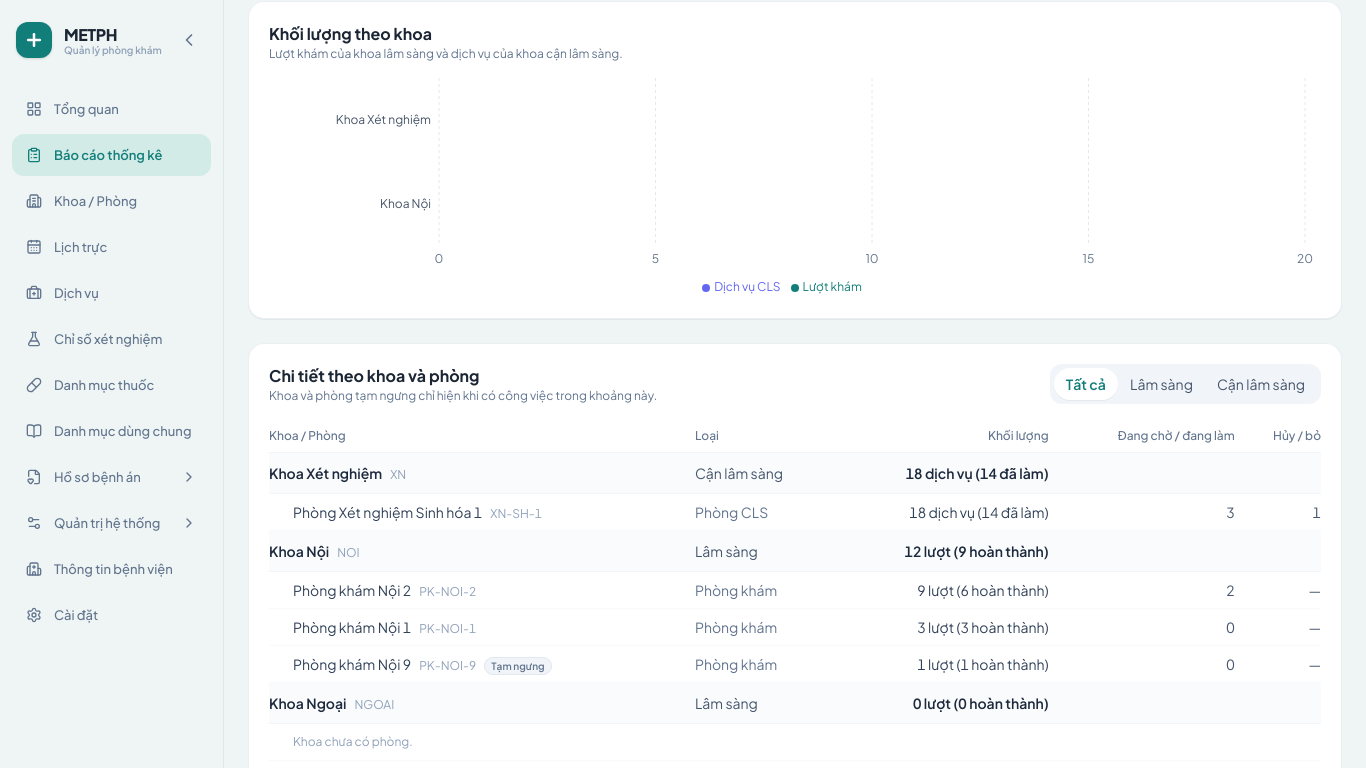
DepartmentStatisticsPage (UC-29) › filters the detail by department type
(page scrolled)
Note: loc loai khoa o server
Click the button "Cận lâm sàng" at [1261, 384], box [1205,368,1317,400]
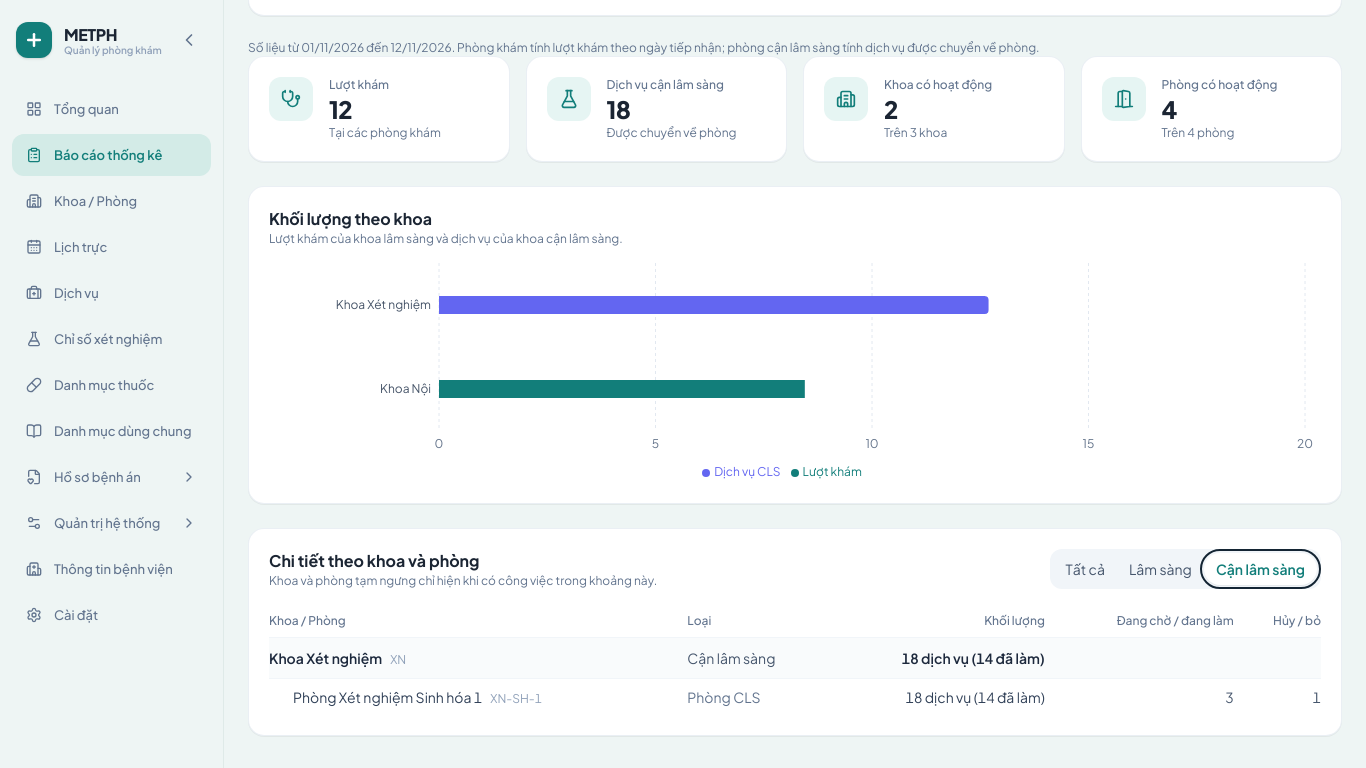
expect the column heading "Khoa Xét nghiệm" is shown: met, box [269,638,679,678]
Click the button "Lâm sàng" at [1160, 569], box [1117,553,1204,585]
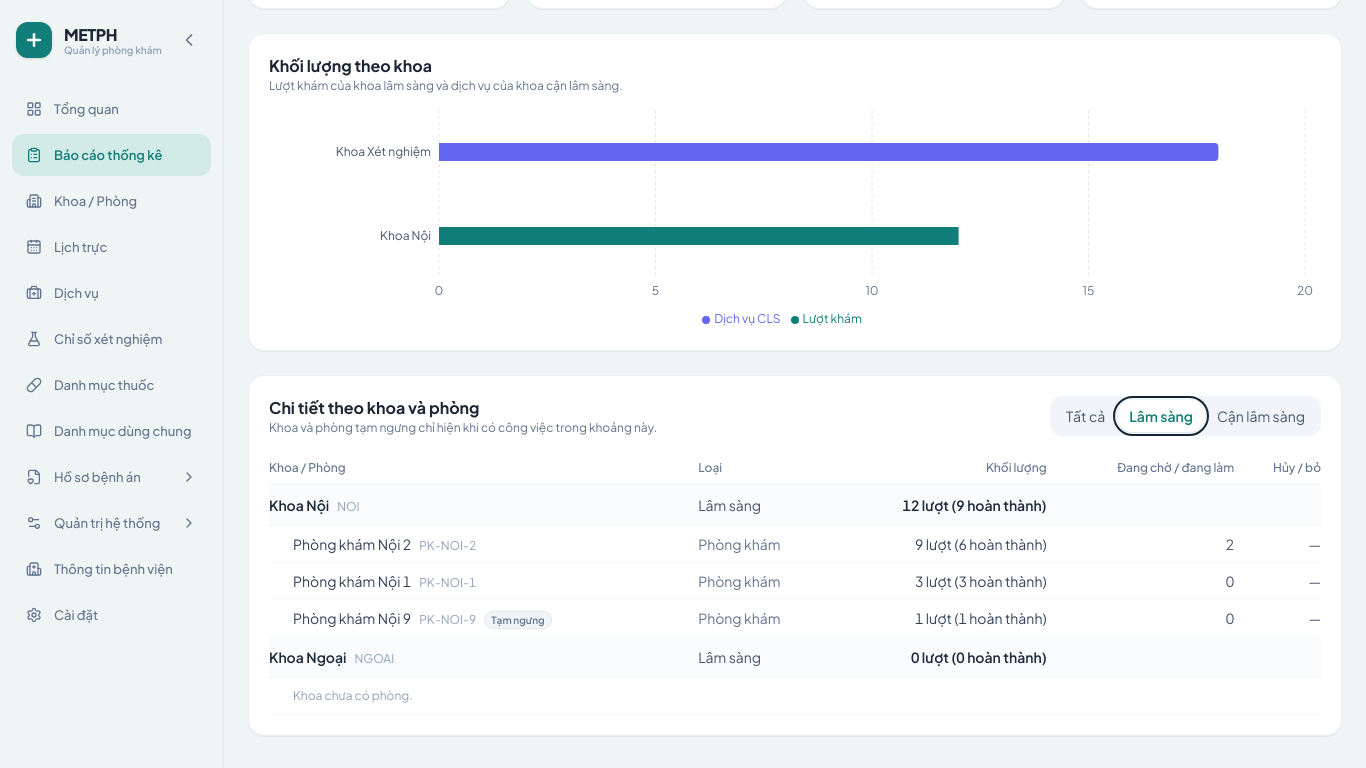
expect the column heading "Khoa Ngoại" is shown: met, box [269,636,690,678]
